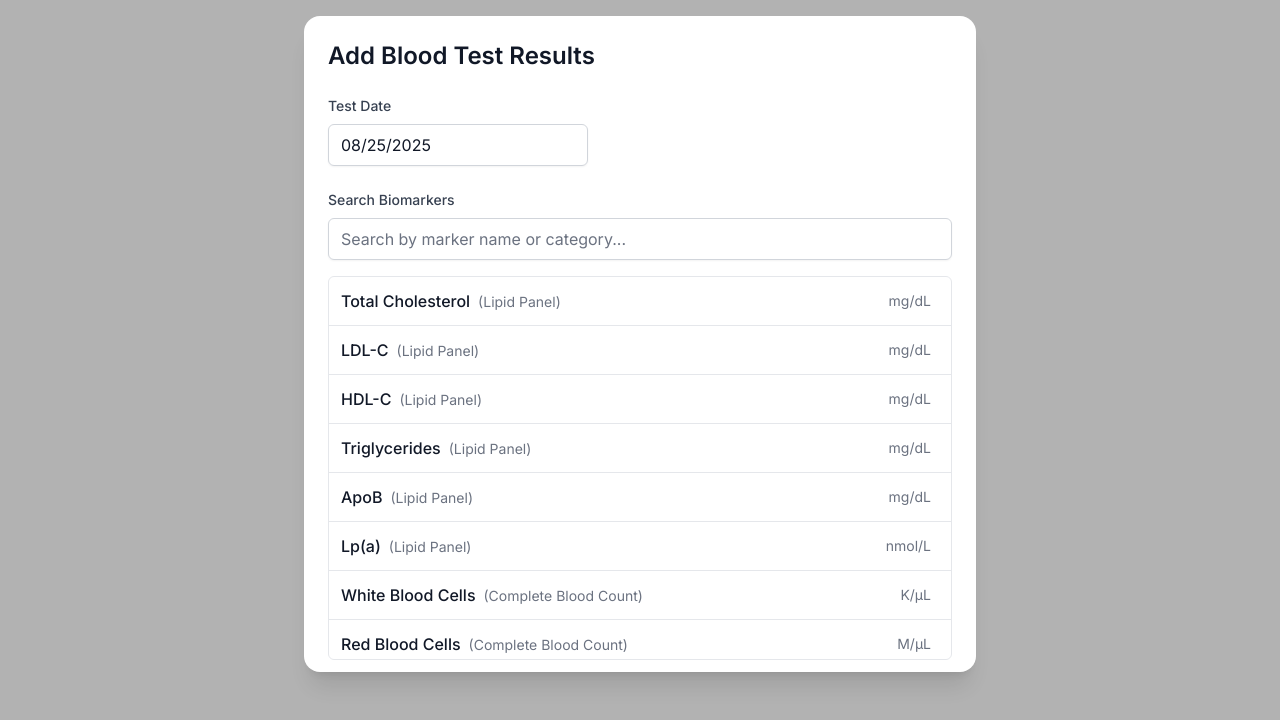
Test: AddResultsModal › navigates to input step
Select a marker
Click the text "Total Cholesterol".
click(451, 301)  # box 341,289 -> 561,313
(page scrolled)
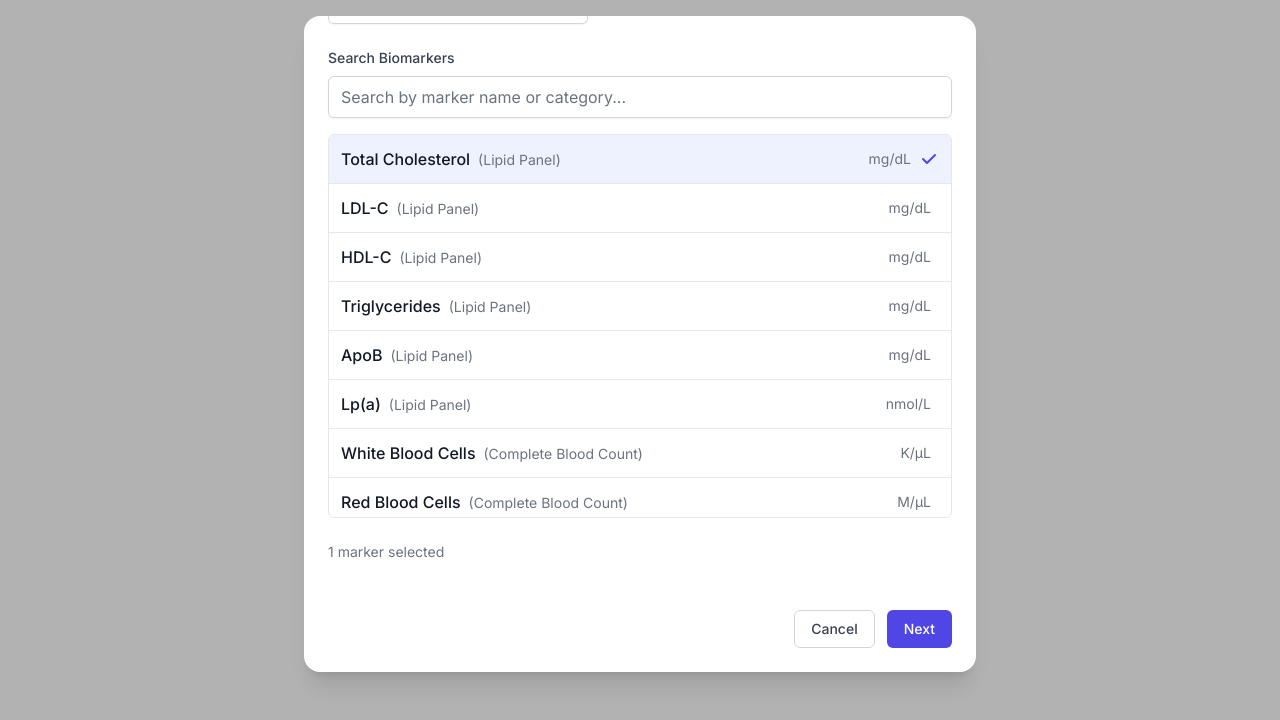
Click Next
Click the button "Next".
click(919, 629)  # box 887,610 -> 952,648
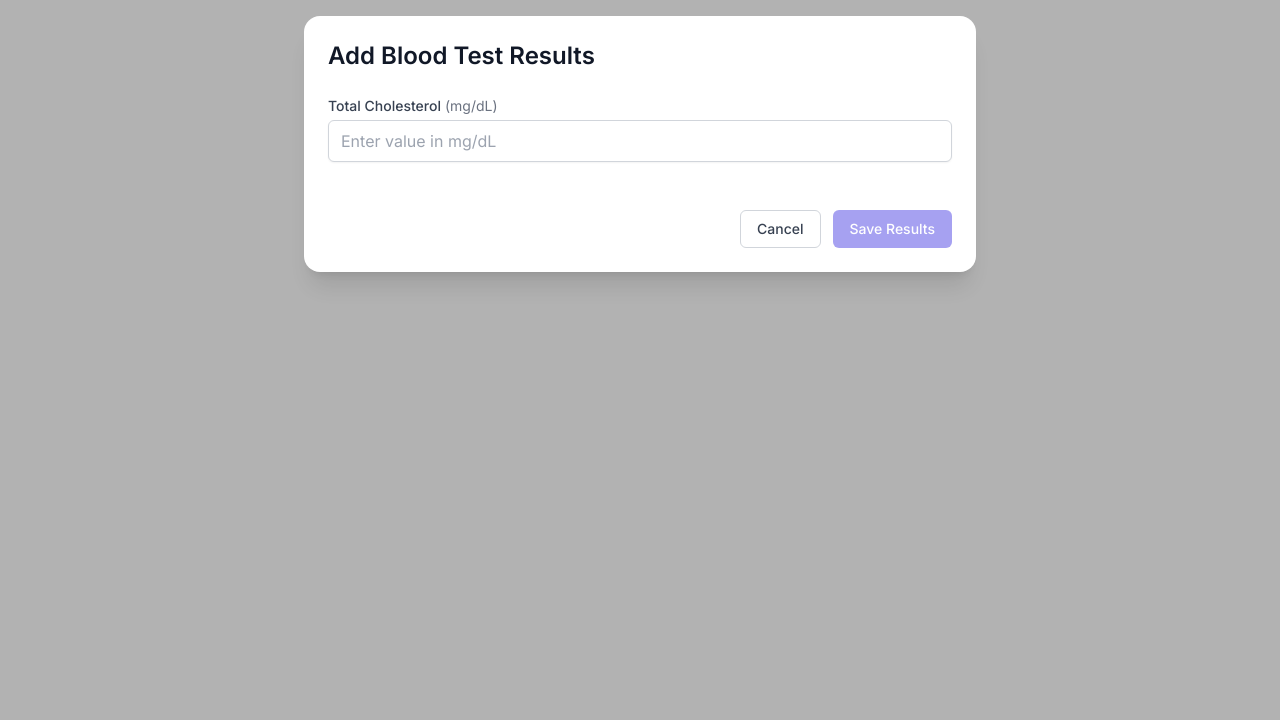
Expected: the text "Total Cholesterol" is shown, 328,97 -> 441,114
Expected: the button "Save Results" is shown, 832,210 -> 952,248
Expected: the button "Next" is gone
